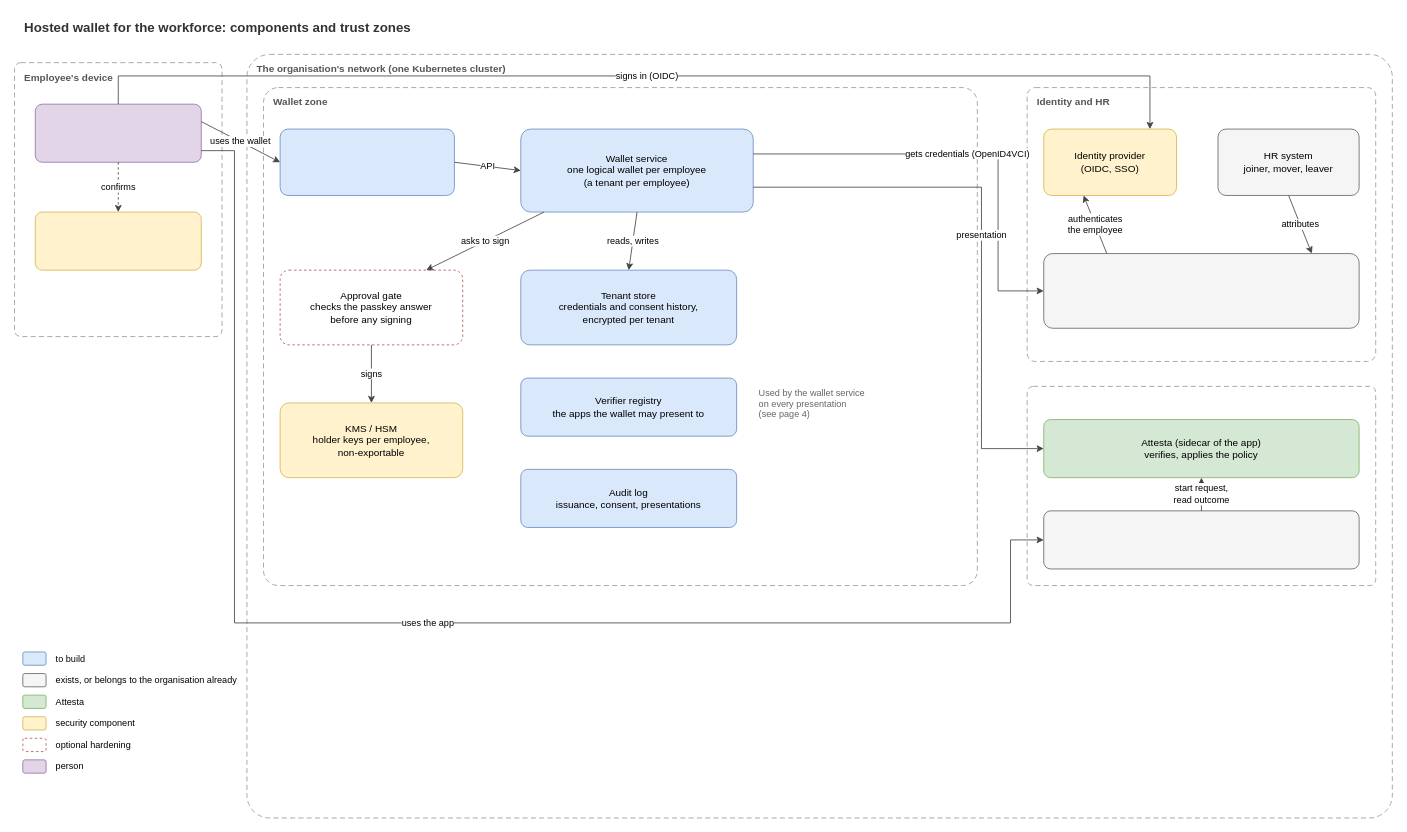
The diagram is 1407 pixels wide and 832 high, and some of its shapes have lost their labels. Here are the shapes that lost their labels. From the top down, the box of each, then its label:
(34, 103, 201, 162): Browser (managed desktop)
(279, 128, 454, 195): Wallet UI (web app, signed in through SSO)
(34, 211, 201, 270): Passkey (platform authenticator)
(1043, 253, 1359, 328): Issuer issues the Employee credential from HR data (OpenID4VCI)
(1026, 386, 1376, 586): Application zone (one per app)
(1043, 510, 1359, 569): laadpalen page and backend
